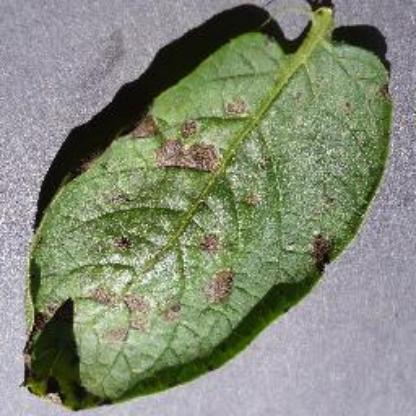Early-Blight: (21, 7, 393, 406)
